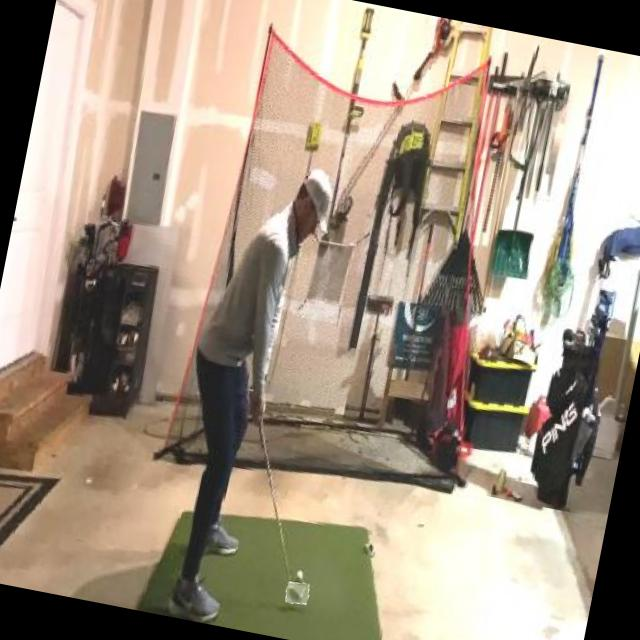club head: (284, 580, 310, 606)
